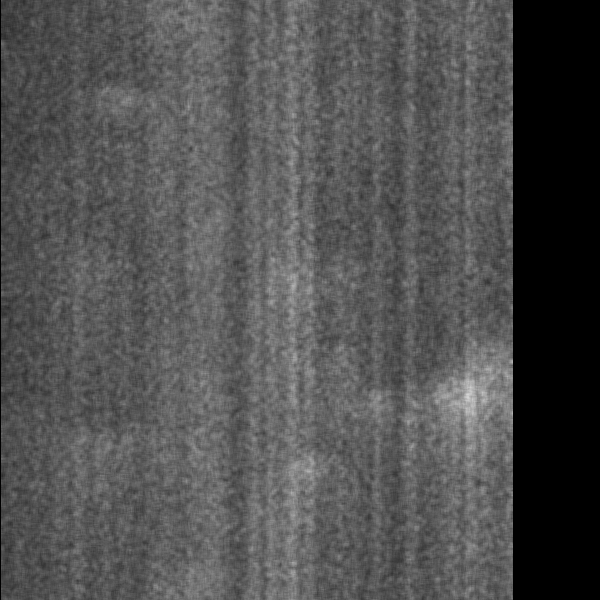spark: (98, 85, 151, 120), (94, 428, 124, 467)
